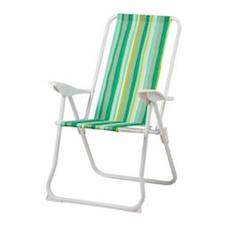chair: (33, 4, 185, 220)
